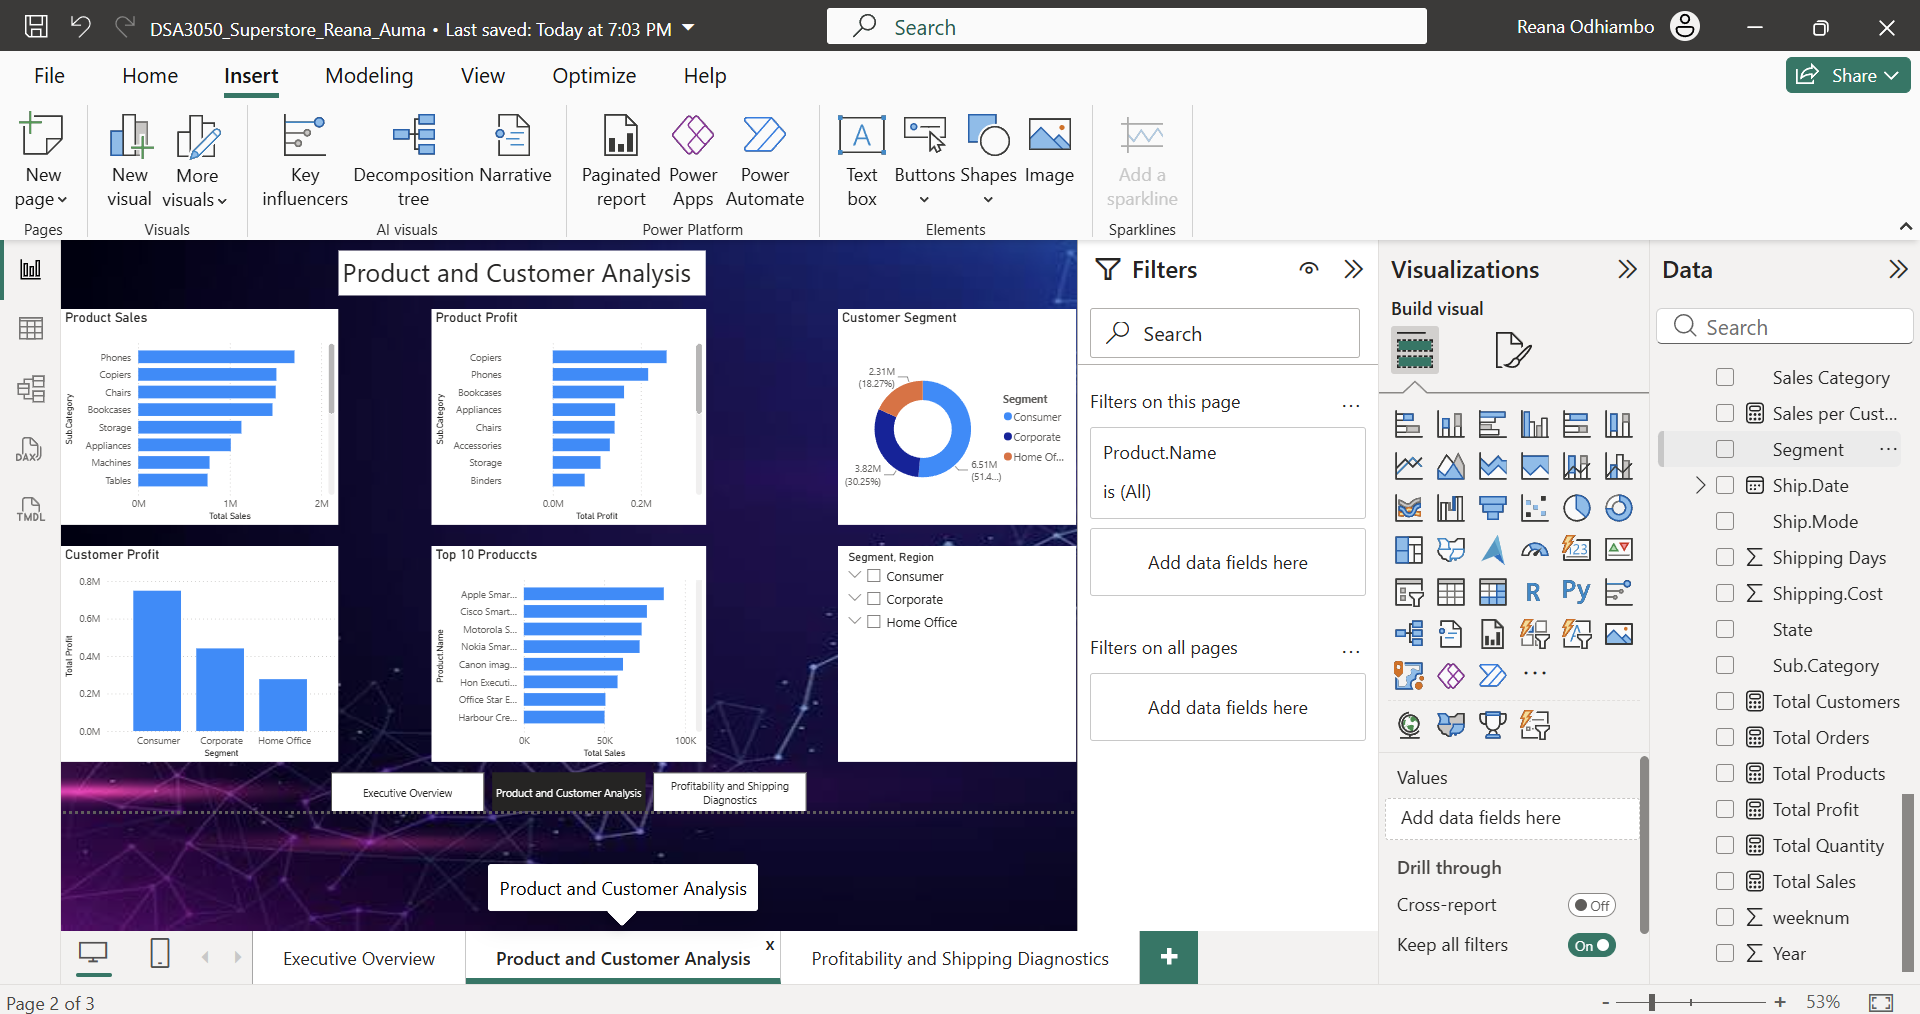

Layout of this report page (visuals, bound fields, positions):
{"tool":"powerbi","page":{"name":"Product and Customer Analysis","canvas":[1280,720],"ordinal":1},"visuals":[{"type":"textbox","box":[349.6,13.2,463,56.7],"z":0},{"type":"barChart","title":"Product Sales","fields":{"Category":["FactSales.Sub.Category"],"Y":["FactSales.Total Sales"]},"box":[0,86.9,349.6,272.1],"z":1},{"type":"barChart","title":"Product Profit","fields":{"Category":["FactSales.Sub.Category"],"Y":["FactSales.Total Profit"]},"box":[466.8,86.9,345.8,272.1],"z":2},{"type":"donutChart","title":"Customer Segment ","fields":{"Category":["FactSales.Segment"],"Y":["FactSales.Total Sales"]},"box":[978.9,86.9,300,272],"z":3},{"type":"clusteredColumnChart","title":"Customer Profit","fields":{"Category":["FactSales.Segment"],"Y":["FactSales.Total Profit"]},"box":[0,385.5,349.6,272.1],"z":4},{"type":"barChart","title":"Top 10 Produccts","fields":{"Category":["FactSales.Product.Name"],"Y":["FactSales.Total Sales"]},"box":[466.8,385.5,345.8,272.1],"z":5},{"type":"slicer","fields":{"Values":["FactSales.Segment","FactSales.Region"]},"box":[978.9,385.5,300,272],"z":6},{"type":"pageNavigator","box":[340.2,670.9,600,50],"z":7}]}

Visuals, with their boxes on the page's 1280x720 design canvas (x1, y1, x2, y2). These are canvas units, not pixel positions in the 1920x1014 screenshot, which may show the page scaled, cropped or inside an application window:
textbox: bbox=[350, 13, 813, 70]
"Product Sales" barChart: bbox=[0, 87, 350, 359]
"Product Profit" barChart: bbox=[467, 87, 813, 359]
"Customer Segment " donutChart: bbox=[979, 87, 1279, 359]
"Customer Profit" clusteredColumnChart: bbox=[0, 386, 350, 658]
"Top 10 Produccts" barChart: bbox=[467, 386, 813, 658]
slicer - FactSales.Segment x FactSales.Region: bbox=[979, 386, 1279, 658]
pageNavigator: bbox=[340, 671, 940, 721]
